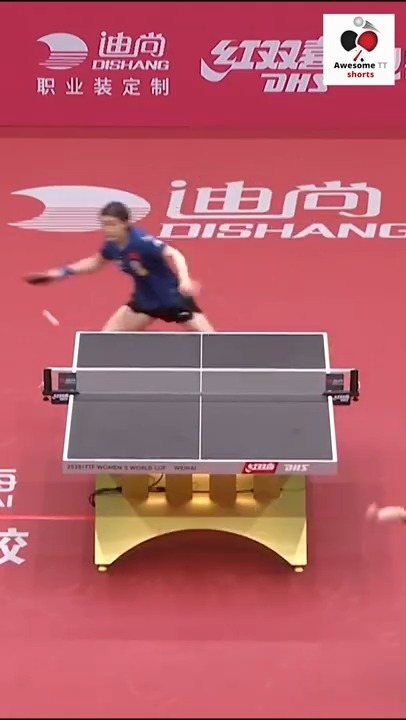Ball: (43, 311, 58, 326)
